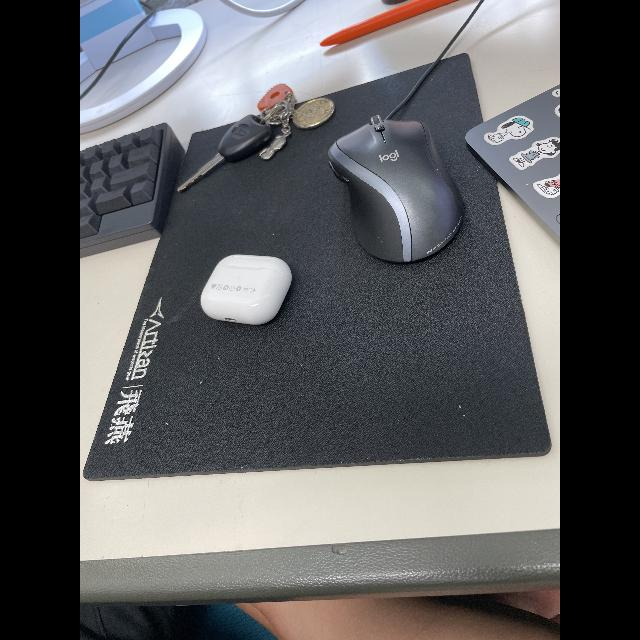airpod3: (192, 247, 302, 327)
